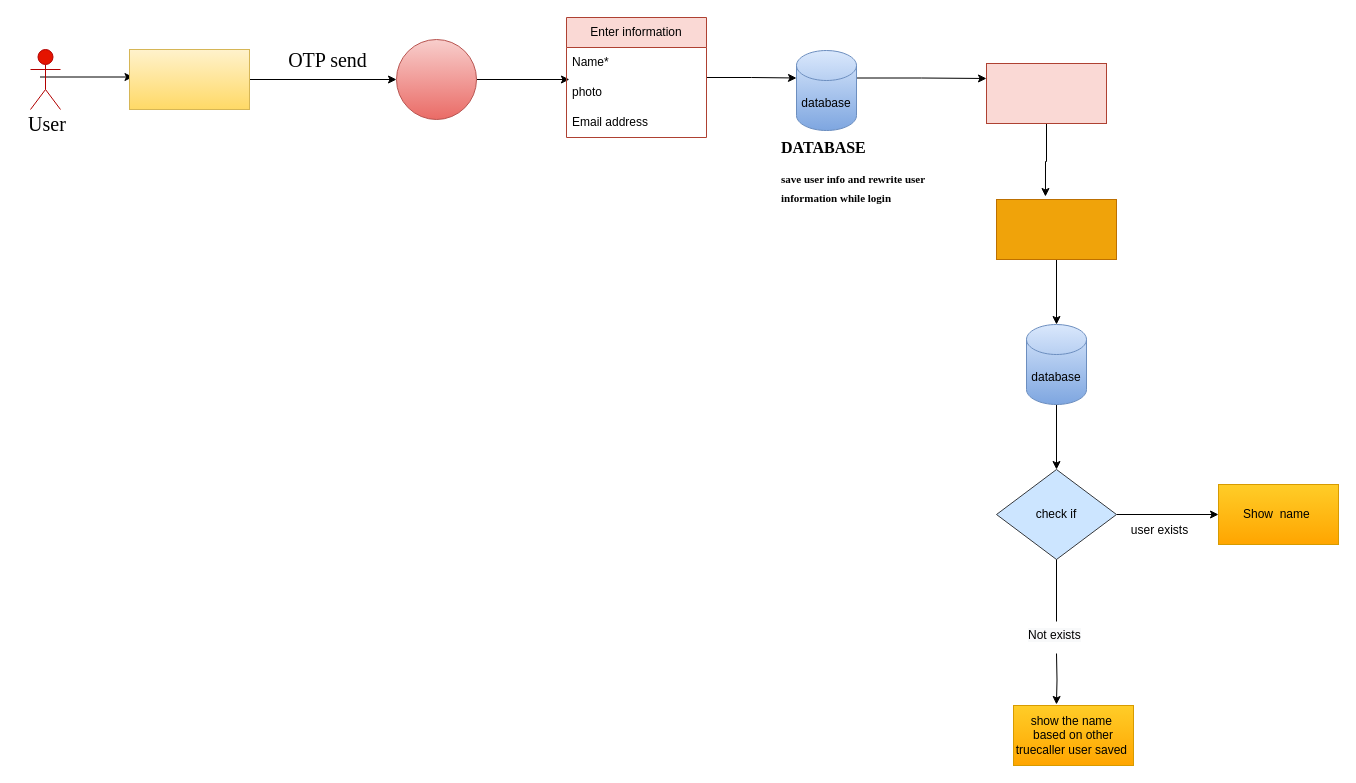
This 1356x783 diagram has some shape labels left out. Here are the shapes that lost their labels. From the top down, the box of each, then its label:
(128, 48, 250, 110): Enter phone number
(396, 38, 476, 120): OTP
(986, 62, 1106, 124): home page
(996, 198, 1116, 260): Search number
